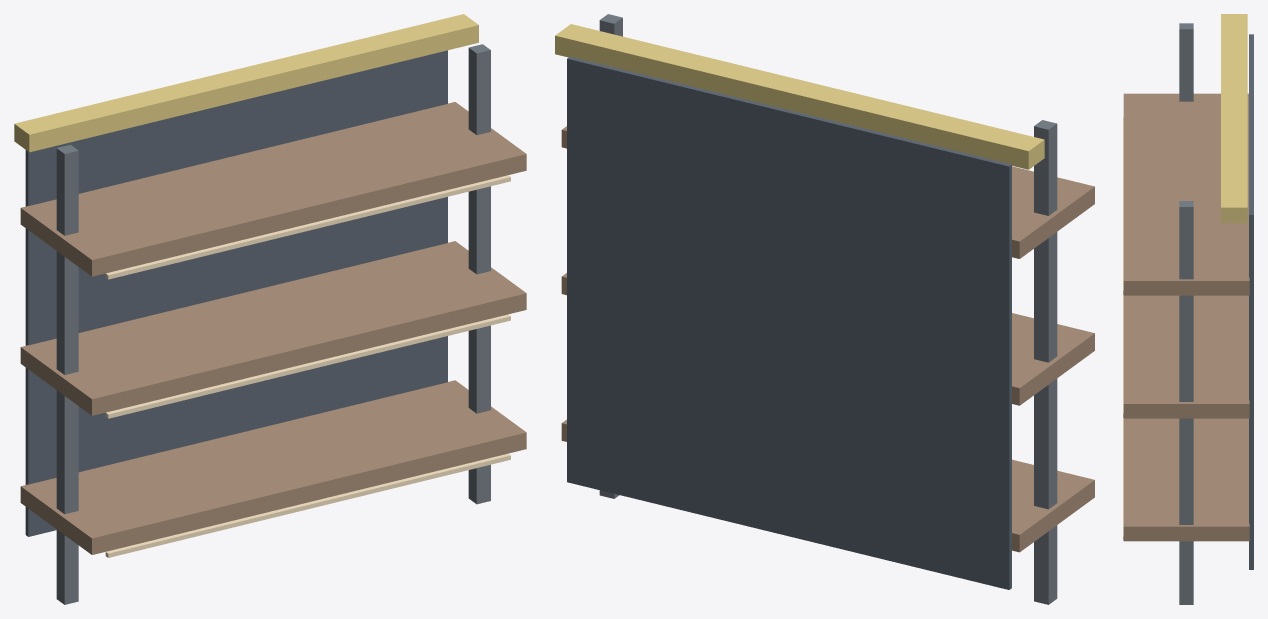
Rendered from shelf.glb.
The picture shows the model from 3 angles, left to right: view 1: azimuth 30°, elevation 25°; view 2: azimuth 150°, elevation 25°; view 3: azimuth 270°, elevation 25°; orthographic projection. The views are drawn at different scales.
Visible parts, largest first — view 1: BackPanel, Shelf1.84, Shelf1.13, Shelf0.42, Header, Post-1.1, Post1.1, Light1.84, Light1.13, Light0.42; view 2: BackPanel, Header, Post-1.1, Shelf1.13, Shelf0.42, Shelf1.84; view 3: Shelf1.84, Shelf1.13, Shelf0.42, Header, Post1.1, BackPanel, Post-1.1.
Boxes of the visible parts, left/top/right/bottom form: BackPanel: left=25, top=50, right=447, bottom=536; Shelf1.84: left=20, top=102, right=526, bottom=276; Shelf1.13: left=20, top=241, right=526, bottom=415; Shelf0.42: left=20, top=380, right=526, bottom=554; Header: left=14, top=14, right=478, bottom=152; Post-1.1: left=56, top=144, right=78, bottom=604; Post1.1: left=468, top=44, right=490, bottom=504; Light1.84: left=105, top=175, right=510, bottom=279; Light1.13: left=105, top=314, right=510, bottom=418; Light0.42: left=105, top=453, right=510, bottom=557; BackPanel: left=567, top=56, right=1011, bottom=589; Header: left=555, top=24, right=1044, bottom=169; Post-1.1: left=1034, top=120, right=1057, bottom=604; Shelf1.13: left=561, top=273, right=1094, bottom=405; Shelf0.42: left=561, top=419, right=1094, bottom=552; Shelf1.84: left=561, top=126, right=1094, bottom=258; Shelf1.84: left=1123, top=93, right=1249, bottom=295; Shelf1.13: left=1123, top=295, right=1249, bottom=418; Shelf0.42: left=1123, top=418, right=1249, bottom=541; Header: left=1221, top=14, right=1247, bottom=223; Post1.1: left=1179, top=201, right=1193, bottom=604; BackPanel: left=1249, top=34, right=1253, bottom=569; Post-1.1: left=1179, top=23, right=1193, bottom=101.
Size of the model in its own units: 2.4 by 2.32 by 0.685.
